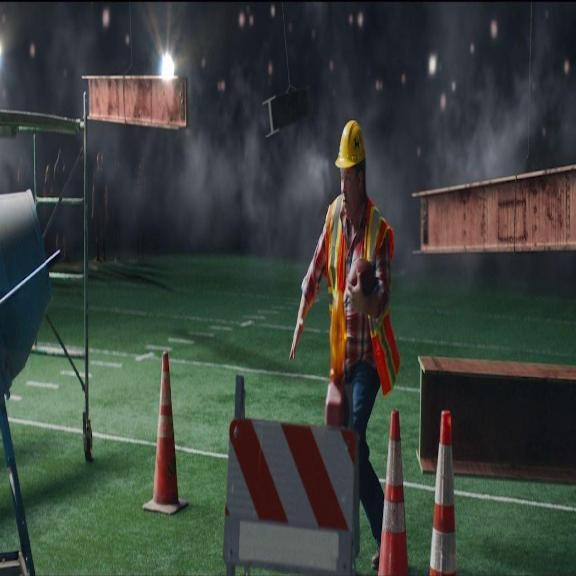safety_vest: (319, 199, 398, 375)
